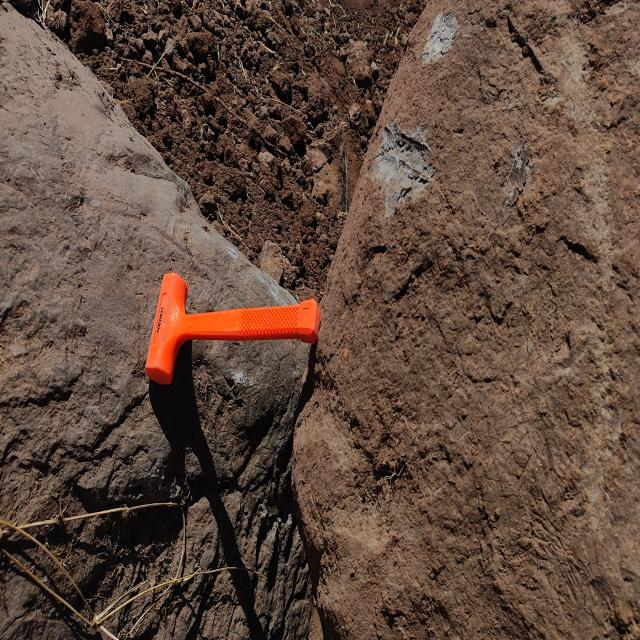Orange_hammer: (144, 270, 321, 386)
